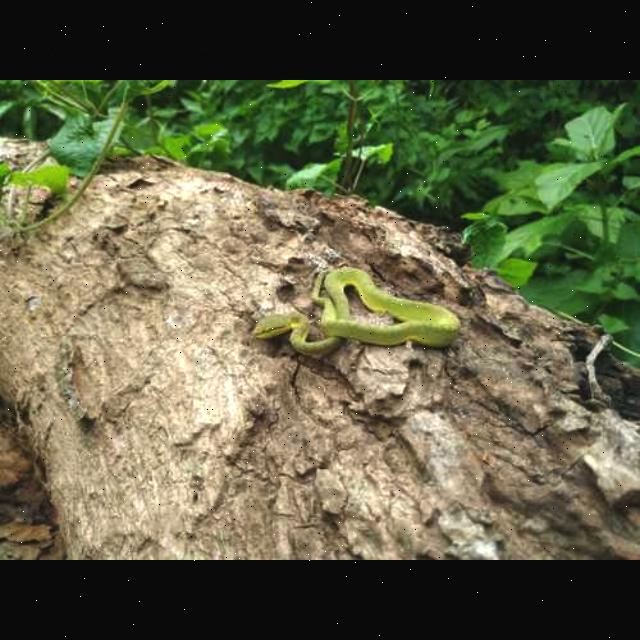snake: (247, 262, 461, 362)
